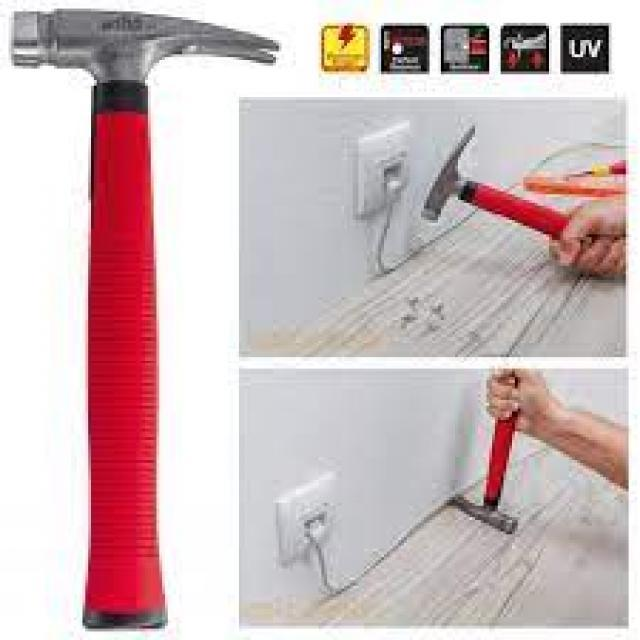hammer: (4, 3, 283, 640), (416, 110, 594, 270), (442, 364, 536, 544)
